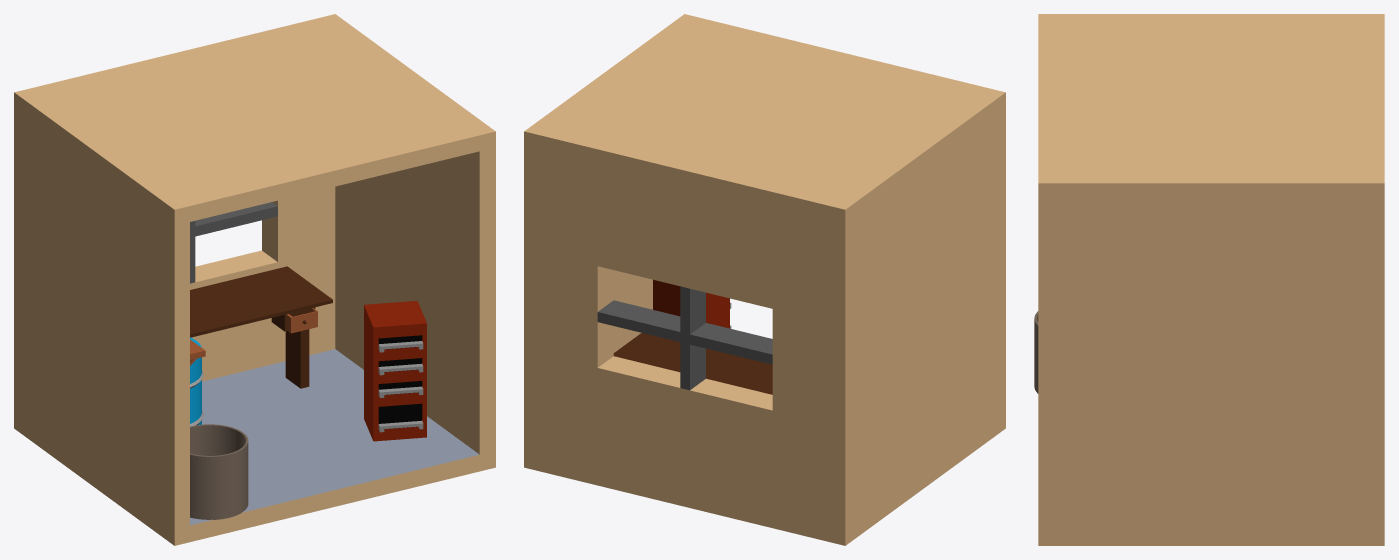
File: Garage room.fbx
3 views of the same model, side by side, from view 1: azimuth 30°, elevation 25°; view 2: azimuth 150°, elevation 25°; view 3: azimuth 270°, elevation 25° (orthographic). The views are drawn at different scales.
Visible parts, largest first — view 1: Cube.008, Cube.010, Cube.009, Cylinder.009, Cylinder.008; view 2: Cube.008, Cube.009, Cube.010; view 3: Cube.008.
Boxes of the visible parts, box(x1,y1,x2,y2) form: Cube.008: box(14, 14, 495, 545); Cube.010: box(364, 301, 426, 441); Cube.009: box(190, 266, 332, 388); Cylinder.009: box(190, 424, 248, 519); Cylinder.008: box(190, 337, 203, 426); Cube.008: box(524, 14, 1005, 545); Cube.009: box(613, 333, 772, 394); Cube.010: box(653, 279, 731, 328); Cube.008: box(1038, 14, 1384, 545).
Bounding box in the file's own units: 11560 × 11560 × 10118.
